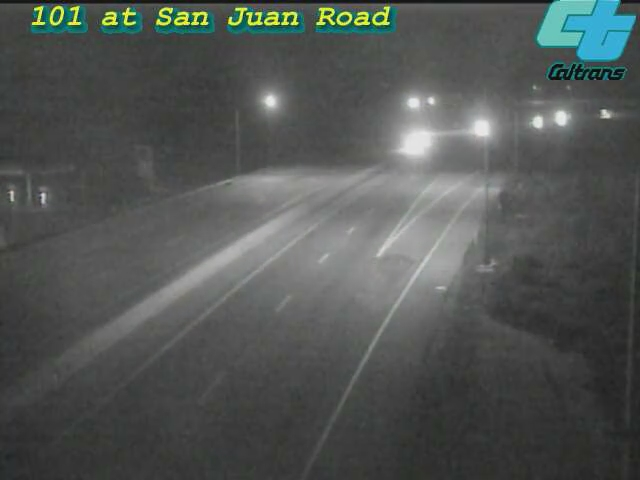vehicle: (581, 90, 631, 140), (389, 118, 439, 168), (453, 104, 503, 154), (509, 97, 559, 147), (533, 93, 583, 143)
